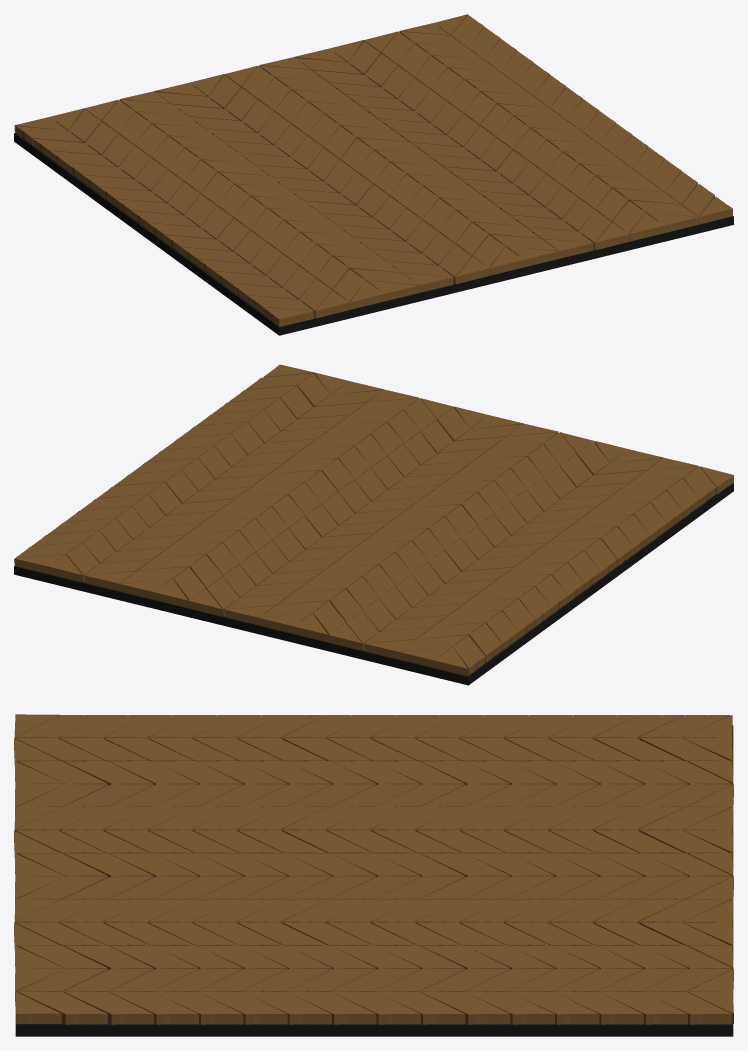
Rendered from floor_tier7.fbx.
3 views of the same model, one above another, from view 1: azimuth 30°, elevation 25°; view 2: azimuth 150°, elevation 25°; view 3: azimuth 270°, elevation 25° (orthographic). The views are drawn at different scales.
Parts seen in each view (by area): view 1: Cube, Cube.029, Cube.012, Cube.013, Cube.027, Cube.010, Cube.004, Cube.006, Cube.002, Cube.017, Cube.019, Cube.008 (+197 smaller); view 2: Cube, Cube.027, Cube.029, Cube.010, Cube.025, Cube.004, Cube.008, Cube.015, Cube.002, Cube.017, Cube.012, Cube.019 (+197 smaller); view 3: Cube, Cube.196, Cube.195, Cube.187, Cube.194, Cube.183, Cube.192, Cube.186, Cube.190, Cube.189, Cube.184, Cube.193 (+210 smaller).
Boxes of the visible parts, box(x1,y1,x2,y2) form: Cube: box(14, 133, 733, 335); Cube.029: box(16, 126, 83, 145); Cube.012: box(246, 295, 314, 318); Cube.013: box(148, 223, 214, 241); Cube.027: box(33, 138, 100, 157); Cube.010: box(164, 235, 231, 253); Cube.004: box(214, 271, 281, 289); Cube.006: box(197, 259, 264, 277); Cube.002: box(230, 283, 297, 301); Cube.017: box(115, 198, 182, 217); Cube.019: box(98, 186, 165, 205); Cube.008: box(181, 247, 248, 265); Cube: box(14, 483, 733, 685); Cube.027: box(469, 623, 502, 662); Cube.029: box(452, 635, 485, 675); Cube.010: box(601, 526, 633, 566); Cube.025: box(486, 611, 518, 650); Cube.004: box(650, 490, 683, 530); Cube.008: box(617, 514, 650, 554); Cube.015: box(568, 551, 600, 590); Cube.002: box(667, 478, 699, 518); Cube.017: box(551, 563, 584, 602); Cube.012: box(683, 466, 716, 506); Cube.019: box(535, 575, 568, 614); Cube: box(15, 725, 733, 1036); Cube.196: box(18, 991, 107, 1024); Cube.195: box(63, 991, 153, 1024); Cube.187: box(420, 991, 510, 1024); Cube.194: box(109, 991, 198, 1024); Cube.183: box(598, 991, 687, 1024); Cube.192: box(198, 991, 287, 1024); Cube.186: box(465, 991, 554, 1024); Cube.190: box(286, 991, 376, 1024); Cube.189: box(331, 991, 420, 1024); Cube.184: box(554, 991, 643, 1024); Cube.193: box(153, 991, 243, 1024).
Size of the model in its own units: 654 by 22.52 by 664.
